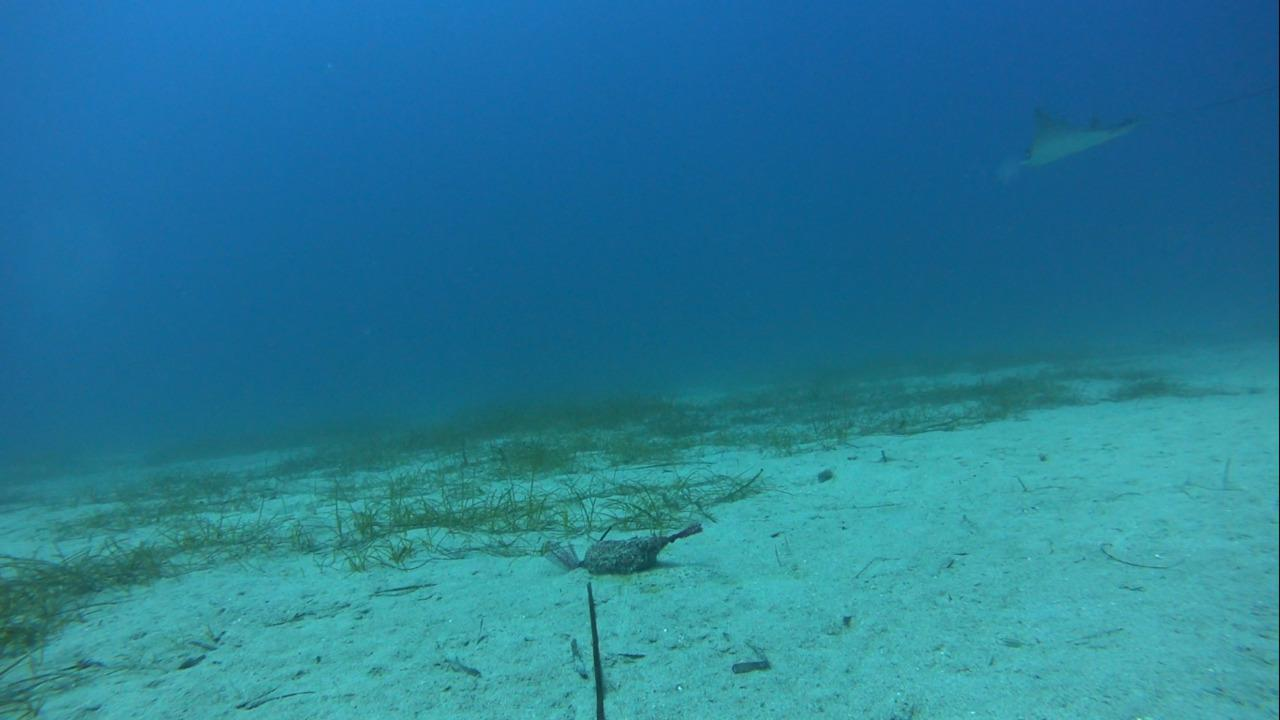myliobatis: (992, 85, 1279, 183)
